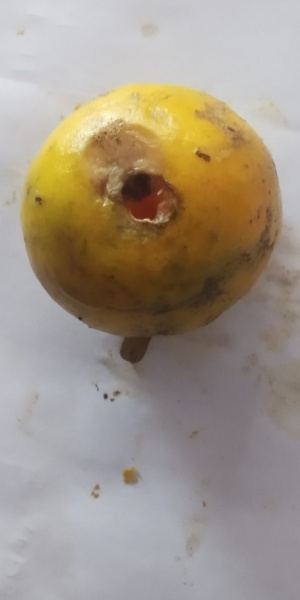BAD: (24, 85, 279, 343)
